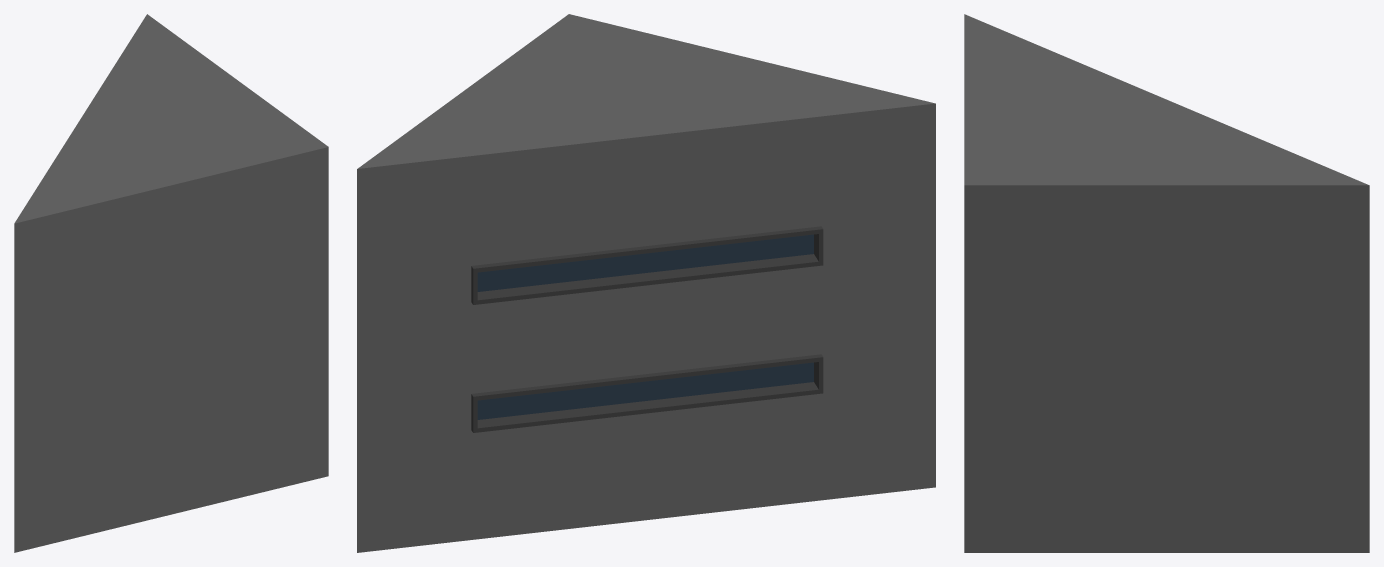
Rendered from Triangular_Prism_03.FBX.
The picture shows the model from 3 angles, left to right: view 1: azimuth 30°, elevation 25°; view 2: azimuth 150°, elevation 25°; view 3: azimuth 270°, elevation 25°; orthographic projection. The views are drawn at different scales.
Parts seen in each view (by area): view 1: Triangular_Prism_03_LOD0; view 2: Triangular_Prism_03_LOD0; view 3: Triangular_Prism_03_LOD0.
Part boxes in pixels (<box>): Triangular_Prism_03_LOD0: <box>14,14,328,552</box>; Triangular_Prism_03_LOD0: <box>357,14,935,552</box>; Triangular_Prism_03_LOD0: <box>964,14,1369,552</box>.
Size of what is drawn, in the model's own units: 180 by 180 by 180.
